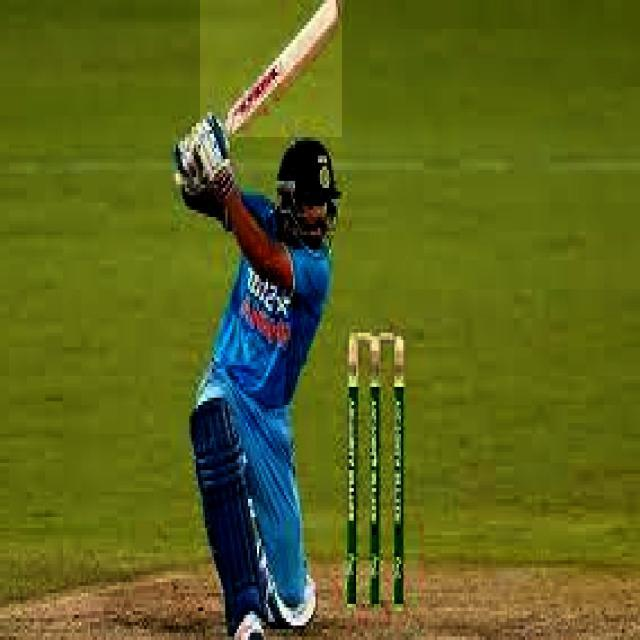bat: (197, 0, 345, 139)
toe: (330, 0, 343, 22)
